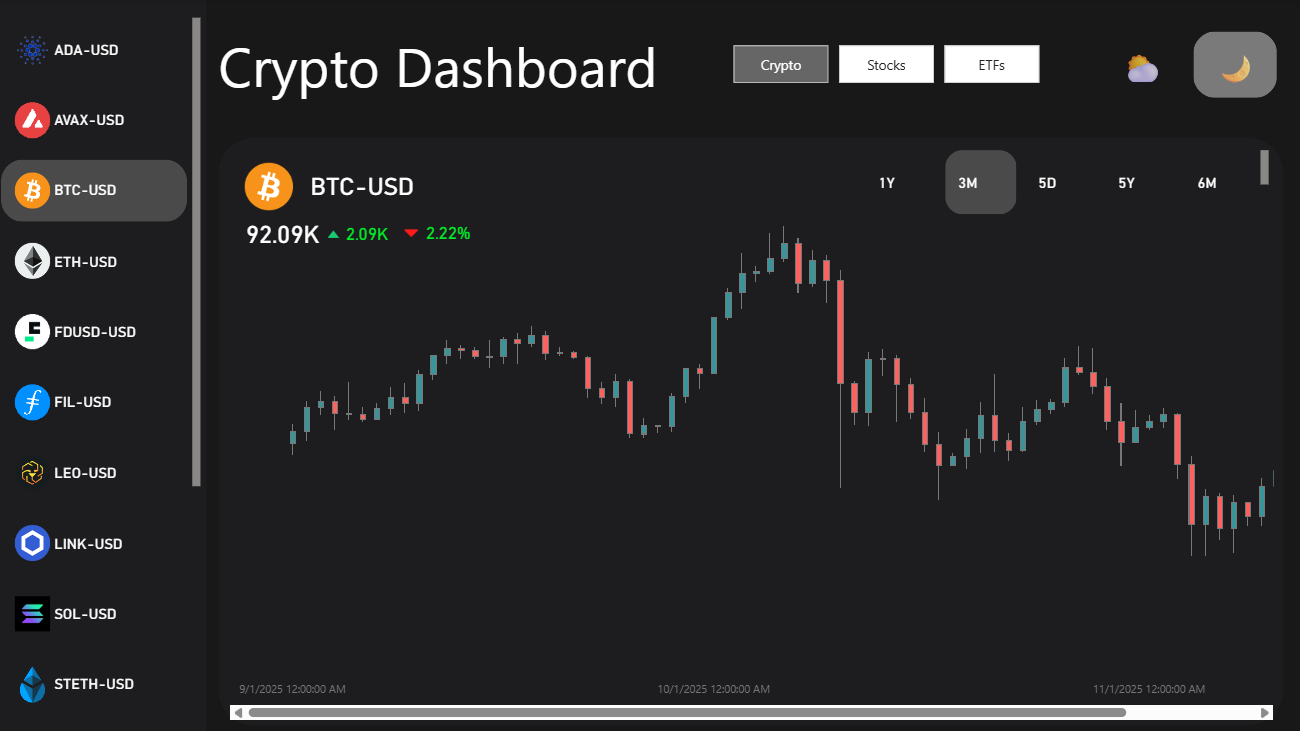

The page's visual inventory and layout, read from the dashboard file:
{"tool":"powerbi","page":{"name":"Crypto","canvas":[1280,720],"ordinal":0},"visuals":[{"type":"shape","box":[0,0,1280.3,720.2],"z":0},{"type":"shape","box":[217.7,135.7,1041.9,574.7],"z":1000},{"type":"shape","box":[0,0,205.8,720.4],"z":2000},{"type":"PBI_CV_886A053E_9DFD_4EA0_A47D_CCAEB89AF969","fields":{"Category":["Stocks Data.Date"],"open":["Sum(Stocks Data.Open)"],"close":["Sum(Stocks Data.Close)"],"high":["Sum(Stocks Data.High)"],"low":["Sum(Stocks Data.Low)"]},"box":[217.7,150.4,1043.1,560.1],"z":3000},{"type":"advancedSlicerVisual","fields":{"Values":["Stocks Data.Symbol"]},"box":[0,13.7,205.8,697.1],"z":4000},{"type":"advancedSlicerVisual","fields":{"Values":["Stocks Data.Date Category"]},"box":[845,143.1,406,73.4],"z":5000},{"type":"advancedSlicerVisual","fields":{"Values":["Color Codes.Label"]},"box":[1075.8,27.4,183.9,75.5],"z":6000},{"type":"cardVisual","fields":{"Data":["Min(Stocks Data.Logo)"]},"box":[223.1,142.2,93.3,87.8],"z":7000},{"type":"card","fields":{"Values":["Min(Stocks Data.Symbol)"]},"box":[283.5,143.6,149.6,79.6],"z":8000},{"type":"card","fields":{"Values":["Stocks Data.Open_value"]},"box":[236,200.5,89.3,58.7],"z":9000},{"type":"card","fields":{"Values":["Stocks Data.Open_Close_diff"]},"box":[324.1,215.2,78.3,30.6],"z":10000},{"type":"card","fields":{"Values":["Stocks Data.Diff_%"]},"box":[403.5,214,78.3,30.6],"z":11000},{"type":"shape","box":[217.7,2.4,600.4,123.5],"z":12000},{"type":"pageNavigator","box":[721.5,45.2,300.8,37.9],"z":13000},{"type":"cardVisual","fields":{"Data":["Min(Stocks Data.Logo)"]},"box":[303.8,202.3,58.7,44],"z":14000},{"type":"cardVisual","fields":{"Data":["Min(Stocks Data.Logo)"]},"box":[378.3,202.3,61.1,44],"z":15000}]}

Visuals, with their boxes in screenshot pixels (x1, y1, x2, y2), scaled from the page's 1280x720 canvas onto the 1300x731 screenshot:
shape: <region>0, 0, 1299, 730</region>
shape: <region>221, 138, 1279, 721</region>
shape: <region>0, 0, 209, 730</region>
PBI_CV_886A053E_9DFD_4EA0_A47D_CCAEB89AF969 - Stocks Data.Date x Sum(Stocks Data.Open): <region>221, 153, 1280, 721</region>
advancedSlicerVisual - Stocks Data.Symbol: <region>0, 14, 209, 722</region>
advancedSlicerVisual - Stocks Data.Date Category: <region>858, 145, 1271, 220</region>
advancedSlicerVisual - Color Codes.Label: <region>1093, 28, 1279, 104</region>
cardVisual - Min(Stocks Data.Logo): <region>227, 144, 321, 234</region>
card - Min(Stocks Data.Symbol): <region>288, 146, 440, 227</region>
card - Stocks Data.Open_value: <region>240, 204, 330, 263</region>
card - Stocks Data.Open_Close_diff: <region>329, 218, 409, 250</region>
card - Stocks Data.Diff_%: <region>410, 217, 489, 248</region>
shape: <region>221, 2, 831, 128</region>
pageNavigator: <region>733, 46, 1038, 84</region>
cardVisual - Min(Stocks Data.Logo): <region>309, 205, 368, 250</region>
cardVisual - Min(Stocks Data.Logo): <region>384, 205, 446, 250</region>
